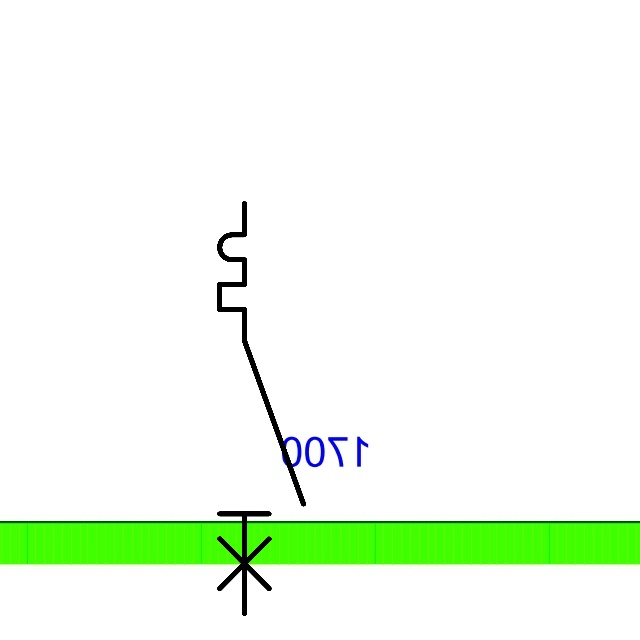interruptor_termomagnetico: (209, 193, 314, 624)
